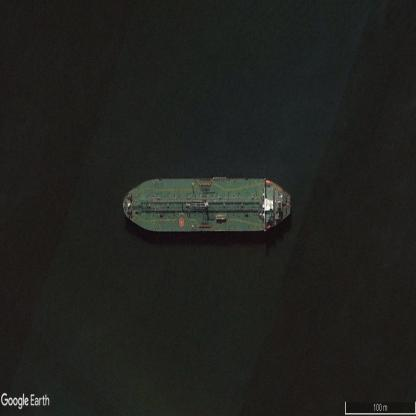ship: (123, 174, 291, 233)
